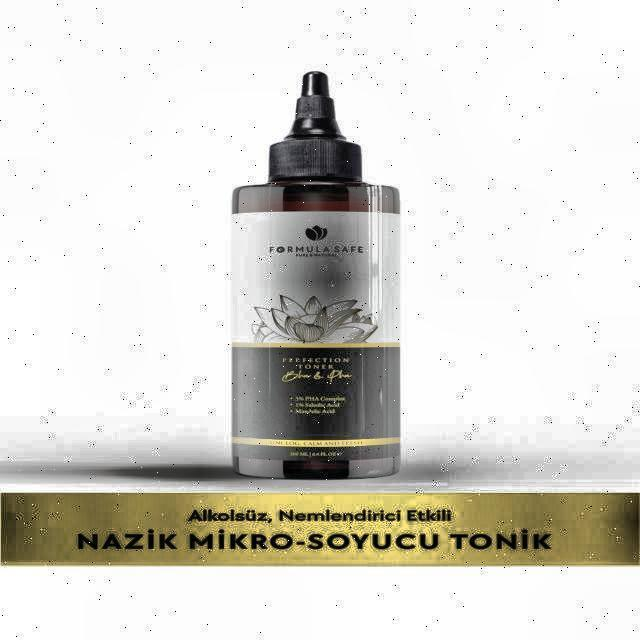plastic: (226, 71, 402, 483)
